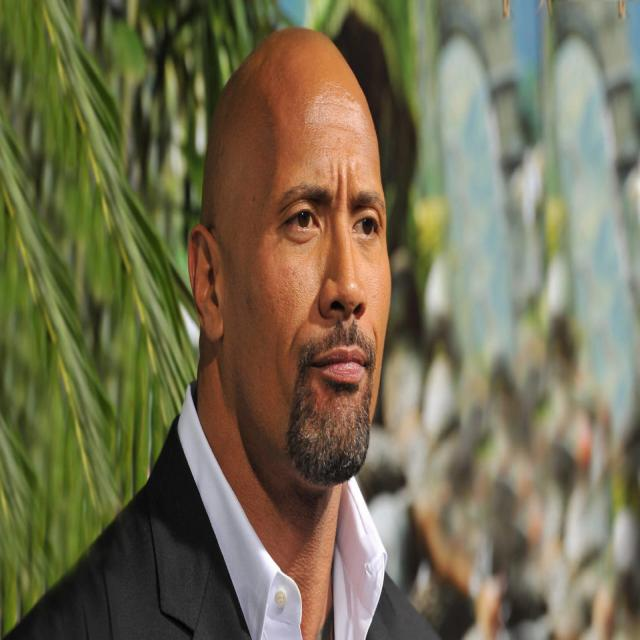beard: (286, 320, 376, 486)
